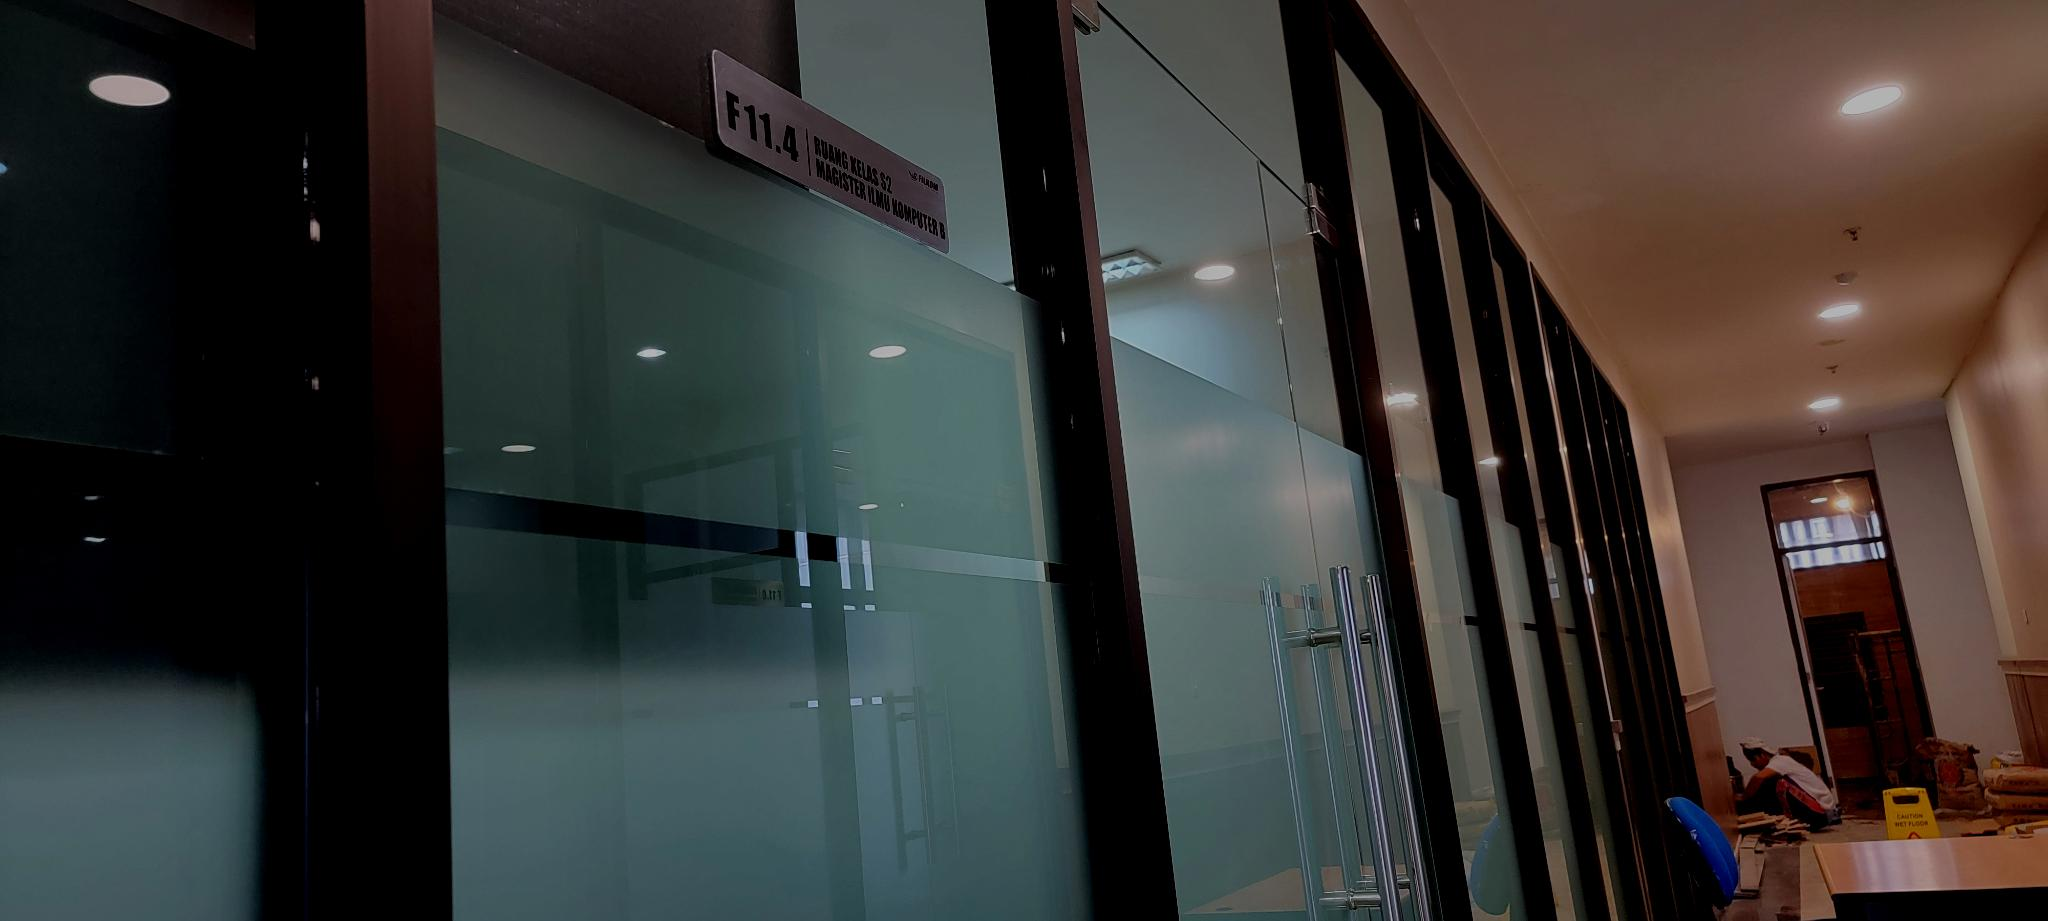plate: (709, 46, 952, 259)
